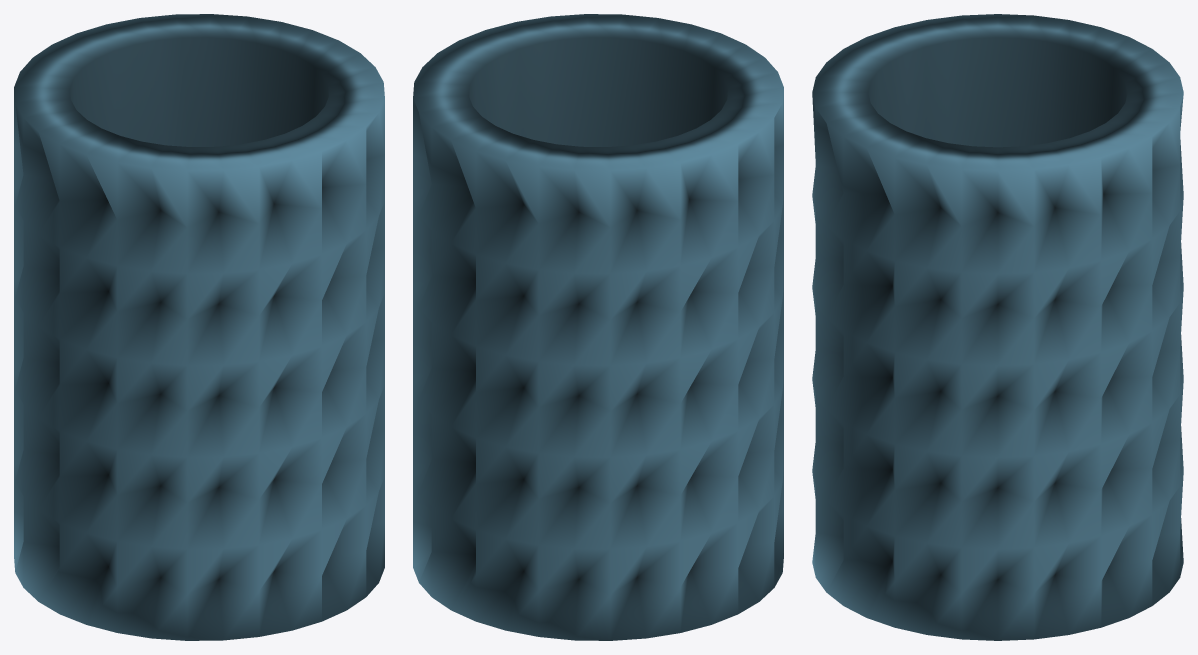
3 renders of one model, left to right at view 1: azimuth 30°, elevation 25°; view 2: azimuth 150°, elevation 25°; view 3: azimuth 270°, elevation 25°, orthographic.
Parts seen in each view (by area): view 1: alt4.104; view 2: alt4.104; view 3: alt4.104.
Part boxes in pixels (<box>): alt4.104: <box>14,14,384,640</box>; alt4.104: <box>413,14,783,640</box>; alt4.104: <box>812,14,1183,640</box>.
Size of the model in its own units: 0.3582 by 0.5 by 0.3582.
